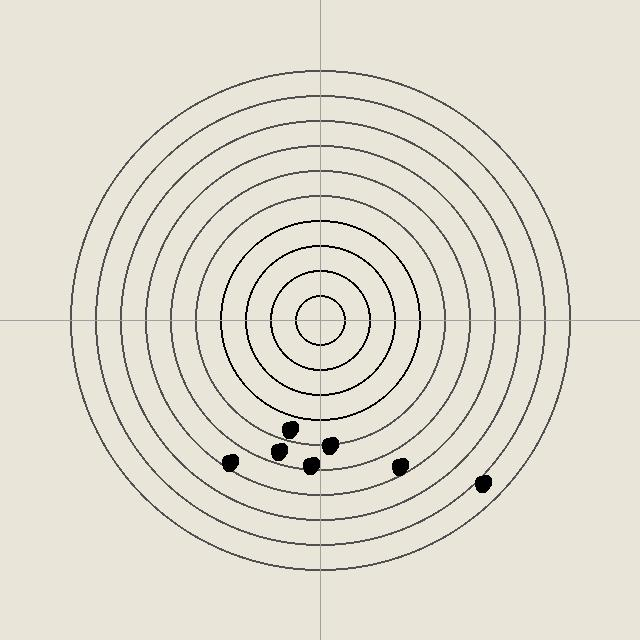horizontal_scatter: (389, 456, 409, 476), (472, 473, 492, 493), (300, 455, 320, 475), (319, 435, 339, 455), (219, 452, 239, 472), (268, 441, 288, 461), (279, 419, 299, 439)
